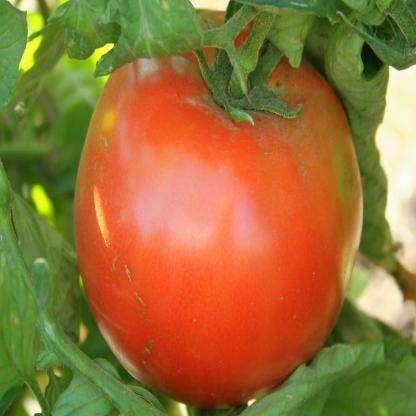tomato: (70, 5, 373, 408)
